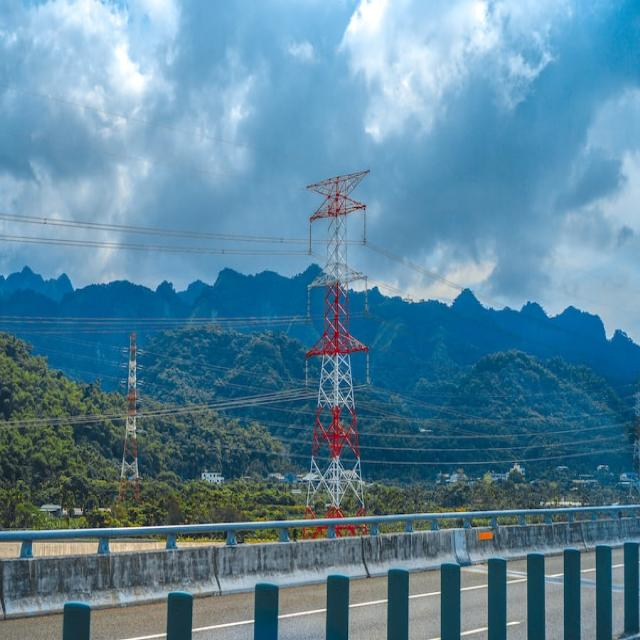transmission tower: (272, 147, 428, 504), (105, 326, 164, 494)
